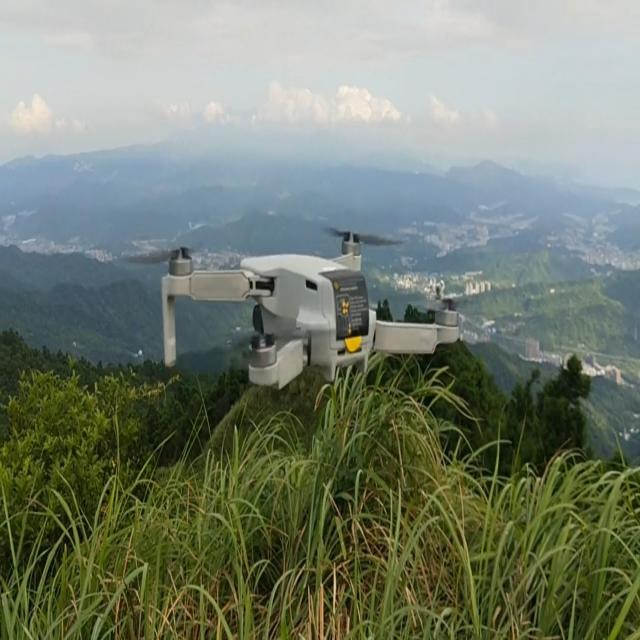Drone: (162, 231, 485, 392)
